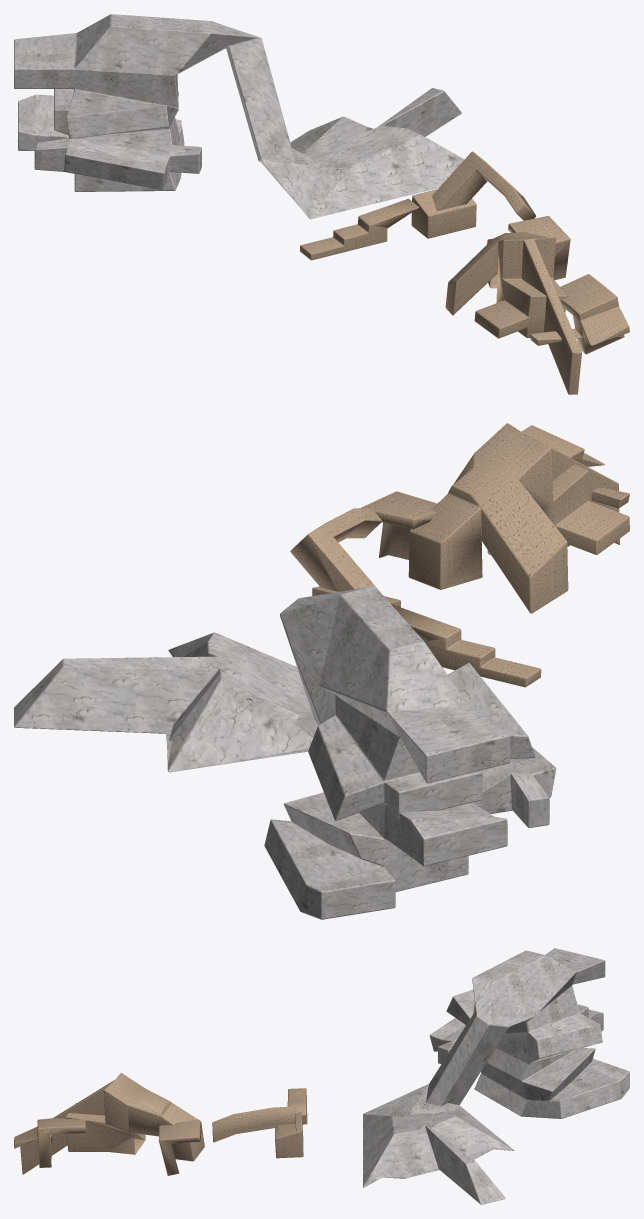
File: gym1o.glb
3 views of the same model, one above another, from view 1: azimuth 30°, elevation 25°; view 2: azimuth 150°, elevation 25°; view 3: azimuth 270°, elevation 25° (orthographic). The views are drawn at different scales.
Visible parts, largest first — view 1: Cone, boulders; view 2: Cone, boulders; view 3: Cone, boulders.
Boxes of the visible parts, x1,y1,x2,y2 form: Cone: (14, 14, 464, 219); boulders: (300, 151, 629, 394); Cone: (14, 586, 556, 919); boulders: (290, 423, 629, 687); Cone: (363, 948, 629, 1204); boulders: (14, 1073, 307, 1175).
Bounding box in the file's own units: 42 × 18.57 × 65.83.
2 materials, 2 textured.
